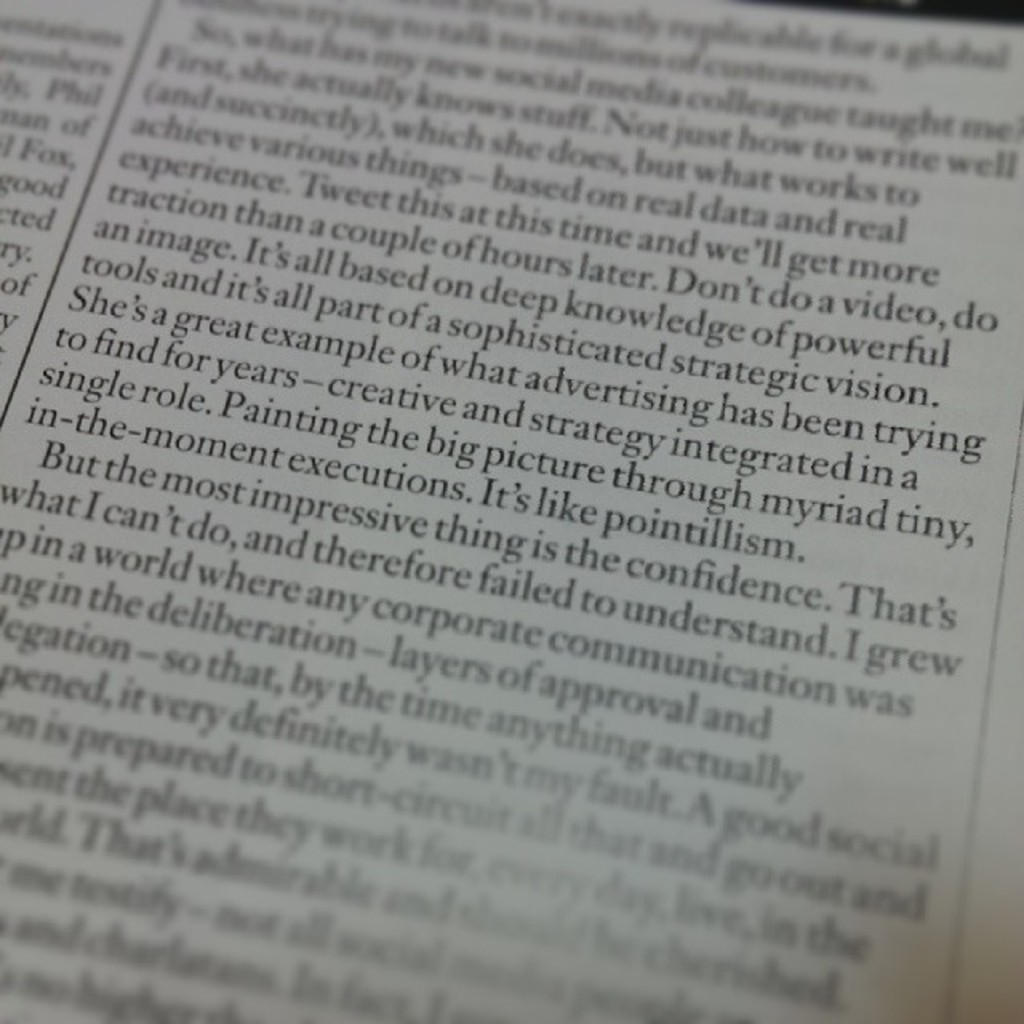Book: (0, 0, 1022, 1022)
